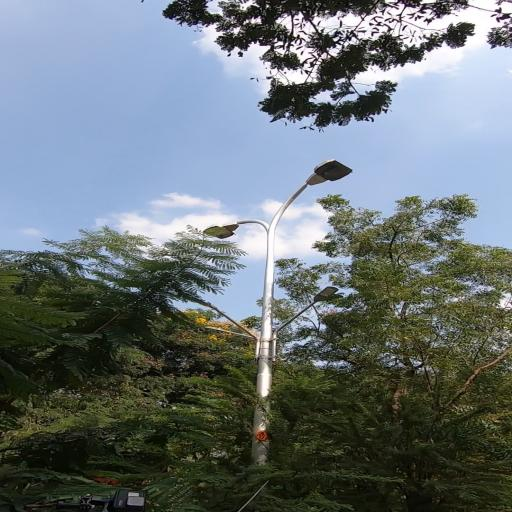Street_light: (287, 158, 356, 199), (192, 215, 268, 242), (294, 282, 339, 319)
